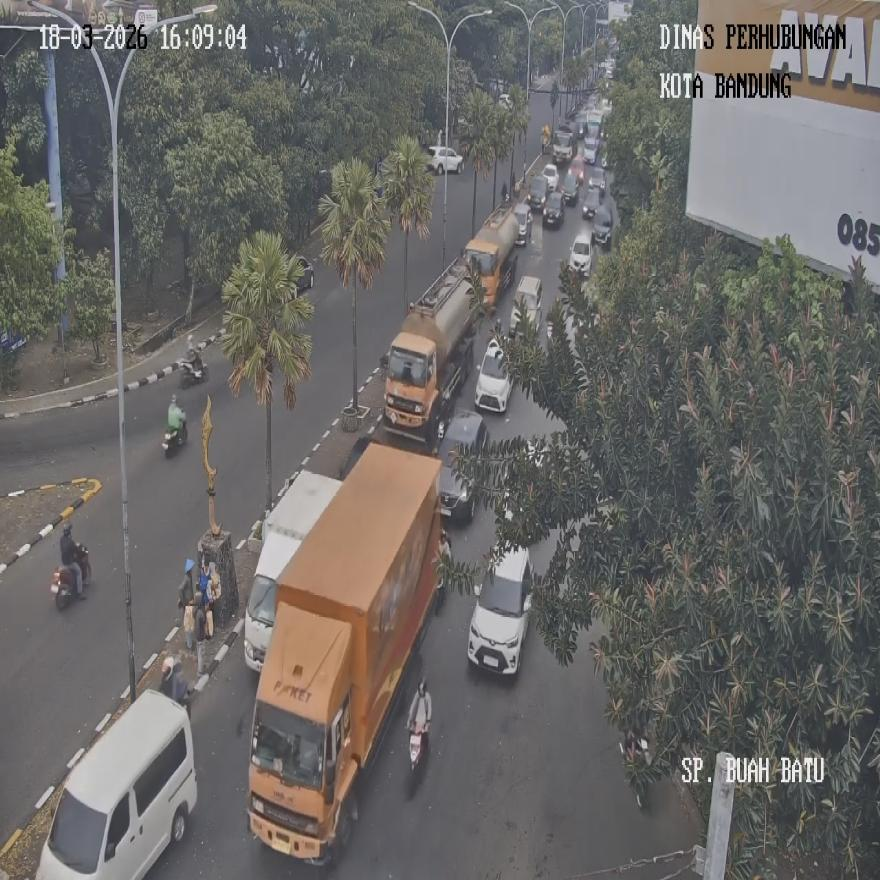Mobil: (245, 442, 444, 866), (35, 690, 198, 878), (242, 471, 342, 672), (467, 542, 533, 674), (437, 410, 487, 521), (474, 337, 511, 413)
Motor: (51, 545, 91, 609), (622, 730, 649, 809), (160, 654, 191, 711), (407, 721, 429, 796), (163, 414, 187, 457), (179, 351, 206, 387)
